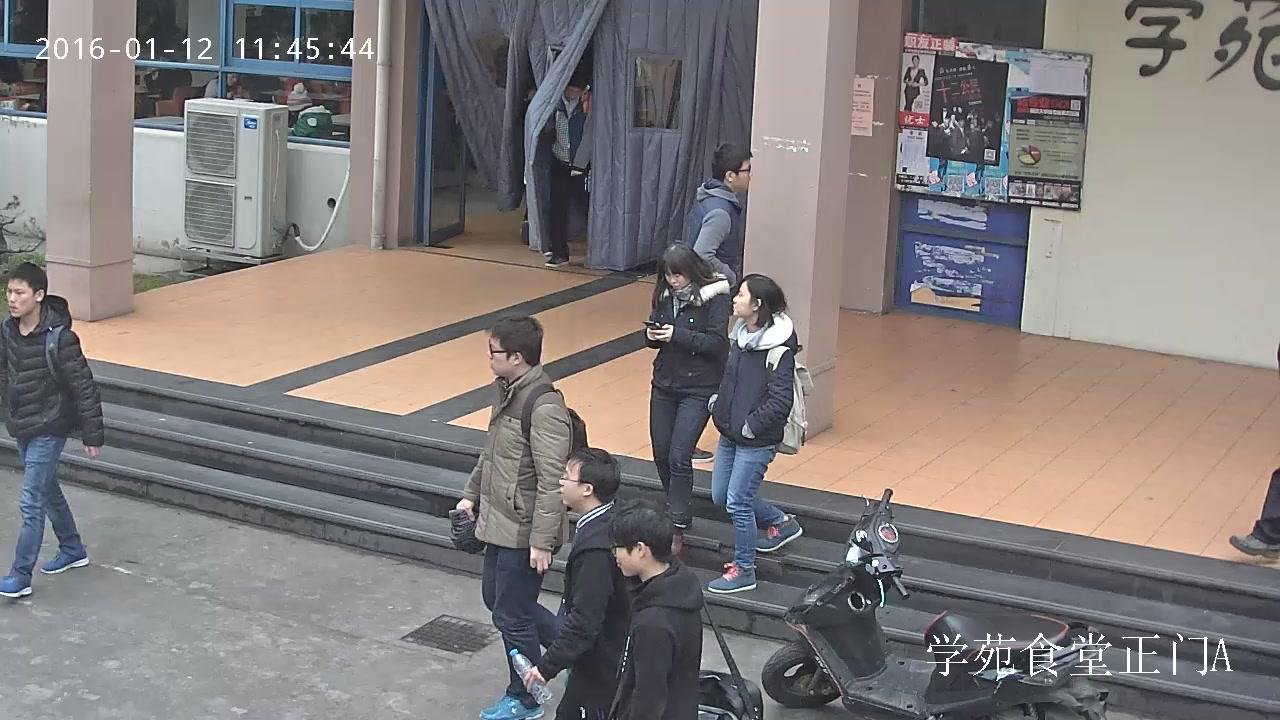person: (448, 311, 589, 720), (604, 492, 764, 720), (508, 447, 640, 720), (705, 272, 814, 593), (0, 260, 104, 596), (641, 240, 732, 563), (604, 492, 706, 719), (682, 140, 753, 461), (542, 72, 597, 267), (284, 83, 333, 141), (145, 49, 193, 99), (204, 68, 253, 104), (903, 54, 928, 112)
